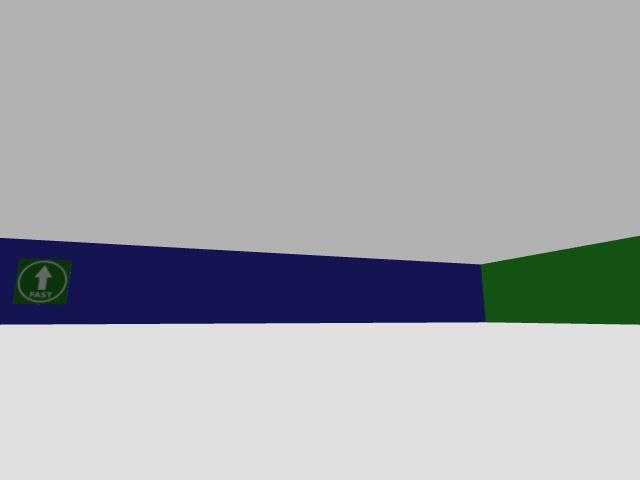fast: (14, 259, 71, 303)
